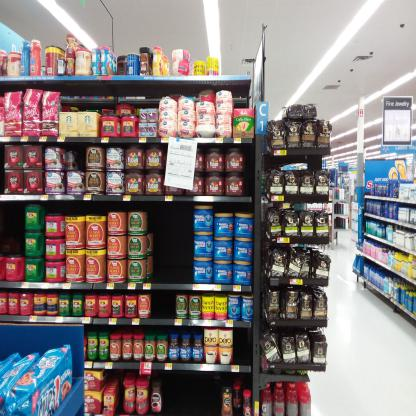Void: (150, 209, 190, 282), (162, 372, 220, 416), (1, 204, 22, 256), (153, 293, 174, 319), (235, 330, 250, 360), (245, 150, 252, 193), (69, 148, 83, 169)
